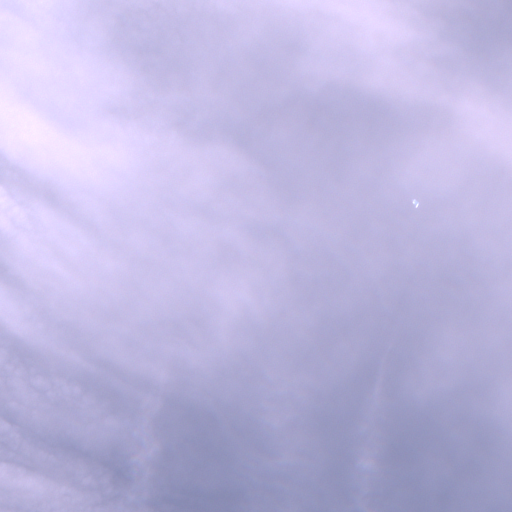Iceberg: (413, 200, 418, 207)
